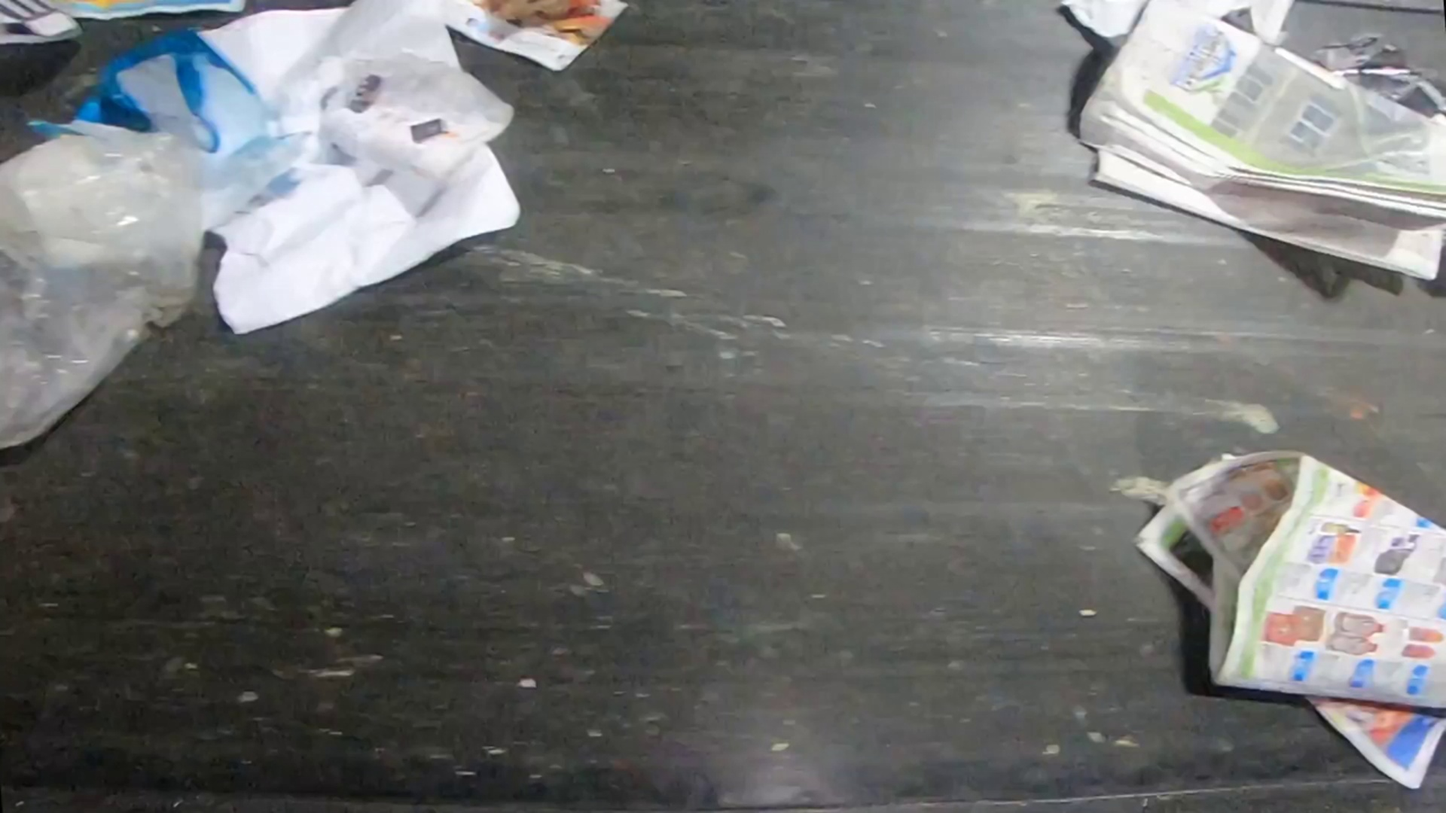plastic: (0, 118, 206, 449), (69, 24, 309, 234)
